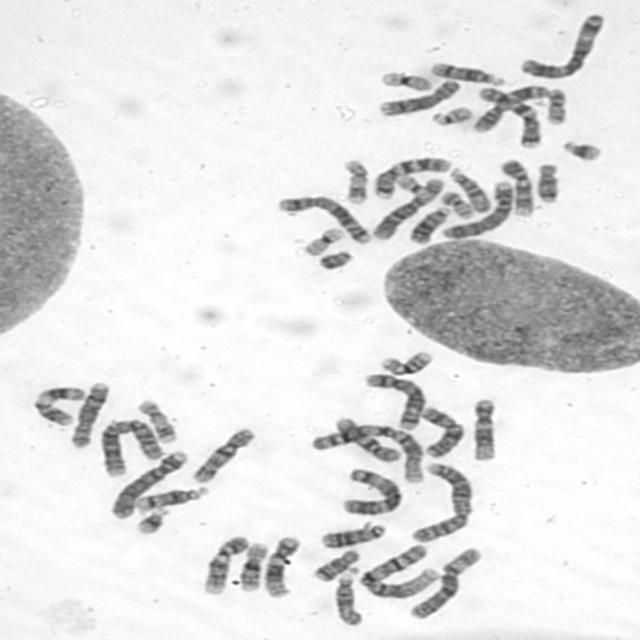A1: (313, 418, 426, 484), (356, 542, 442, 600)
A2: (406, 460, 475, 544), (95, 416, 169, 478)
A3: (516, 11, 607, 79), (337, 465, 404, 516)
B4: (105, 448, 190, 521), (438, 178, 515, 240)
B5: (274, 192, 374, 246), (361, 371, 426, 432)
C10: (187, 424, 257, 484), (330, 414, 401, 465)
C11: (470, 84, 549, 134), (29, 384, 86, 427)
C12: (260, 534, 302, 598), (467, 396, 499, 462)
C6: (405, 544, 485, 621), (368, 174, 446, 241)
C7: (473, 84, 544, 148), (368, 154, 454, 200)
C8: (373, 77, 462, 117), (65, 379, 111, 448)
C9: (199, 532, 250, 596), (497, 156, 536, 218)
D13: (317, 520, 387, 550), (405, 203, 453, 245)
D14: (132, 483, 210, 513), (427, 58, 505, 86)
D15: (445, 165, 492, 213), (332, 568, 365, 628)
E16: (235, 538, 270, 592), (375, 348, 435, 376)
E17: (134, 398, 177, 443), (340, 157, 370, 206)
E18: (309, 546, 362, 583), (533, 160, 562, 204)
F19: (298, 225, 346, 256), (376, 68, 435, 93)
F20: (438, 188, 475, 220), (545, 89, 568, 127)
G21: (559, 137, 604, 162), (133, 504, 169, 535)
G22: (428, 104, 475, 127), (392, 172, 427, 196)
X: (416, 404, 467, 458)
Y: (315, 248, 355, 270)
